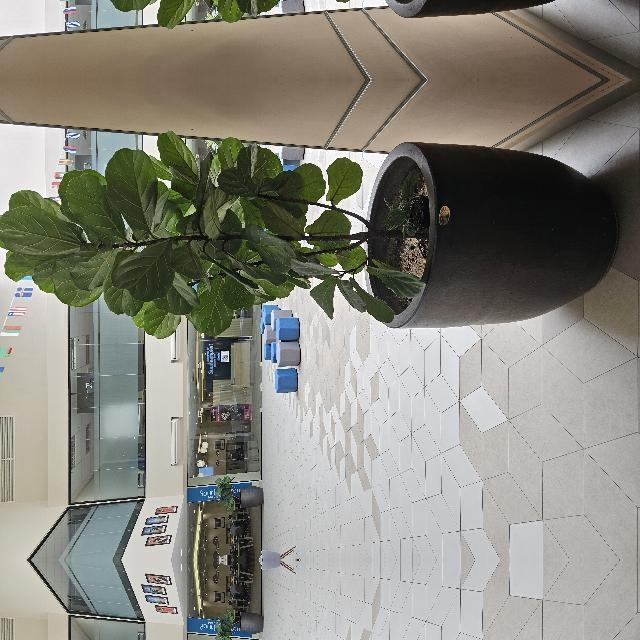obstacle: (232, 156, 435, 640), (232, 436, 435, 640), (156, 346, 254, 382), (232, 0, 435, 3)
